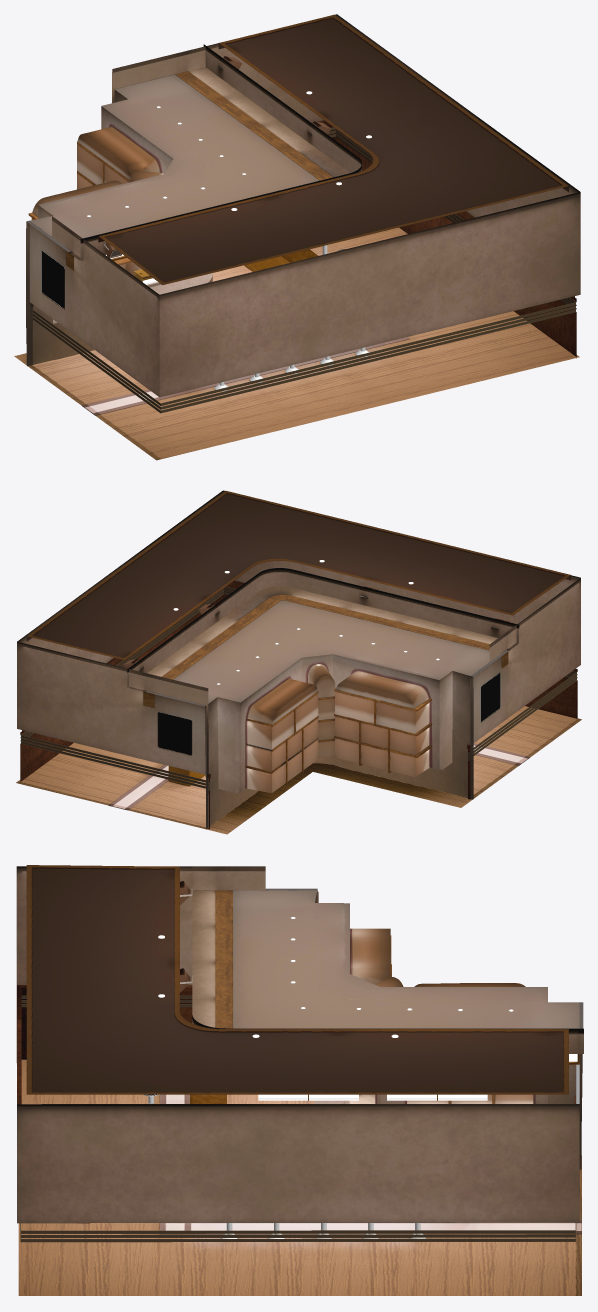
Rendered from Cocktail Den.glb.
3 renders of one model, top to bottom at view 1: azimuth 30°, elevation 25°; view 2: azimuth 150°, elevation 25°; view 3: azimuth 270°, elevation 25°, orthographic. The views are drawn at different scales.
Parts seen in each view (by area): view 1: wall, Cealing, flooor, Props1; view 2: wall, Cealing, flooor, Props1; view 3: wall, Cealing, flooor, Props1, Metal.
Boxes of the visible parts, box(x1,y1,x2,y2) form: wall: box(26, 14, 580, 413); Cealing: box(98, 14, 568, 285); flooor: box(14, 227, 579, 460); Props1: box(28, 56, 345, 284); wall: box(17, 490, 580, 828); Cealing: box(26, 491, 571, 660); flooor: box(16, 706, 581, 834); Props1: box(123, 586, 509, 786); wall: box(16, 866, 583, 1242); Cealing: box(26, 865, 568, 1094); flooor: box(18, 1059, 581, 1295); Props1: box(147, 881, 494, 1103); Metal: box(143, 1064, 579, 1238).
Bounding box in the file's own units: 97.78 × 37.98 × 97.66.
18 materials, 11 textured.
